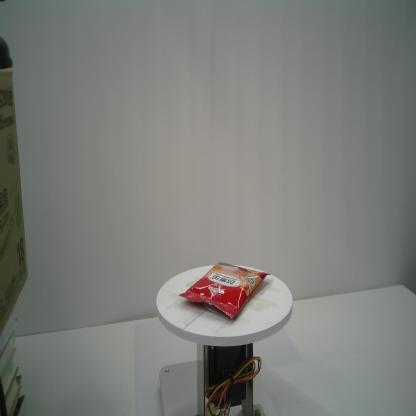Instant Drink: (178, 260, 272, 320)
